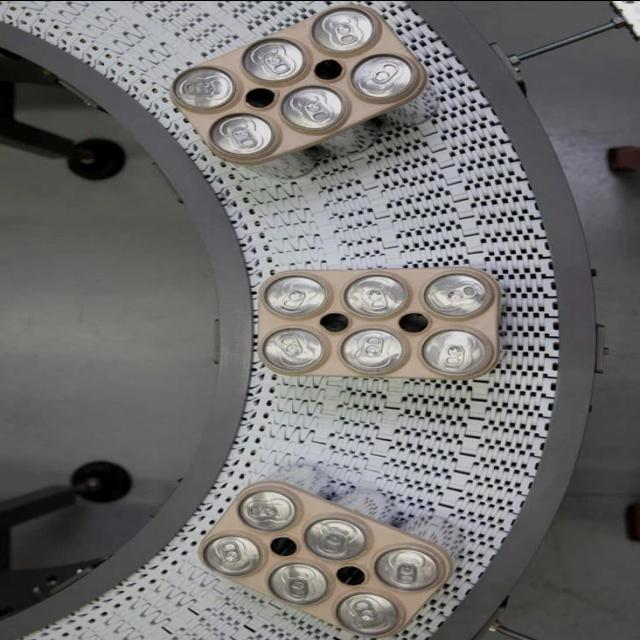bottle: (166, 4, 428, 168), (195, 479, 455, 638), (256, 266, 504, 380)
